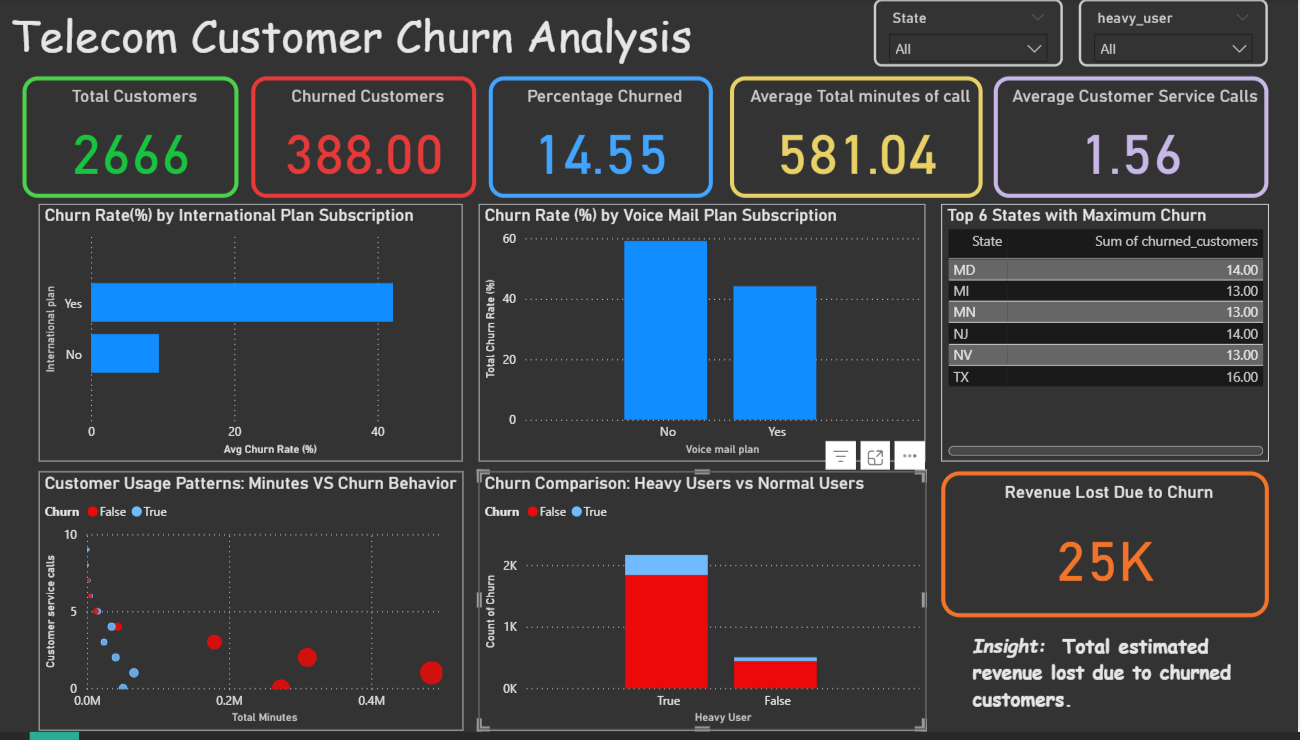

The dashboard page shown, as its layout file describes it:
{"tool":"powerbi","page":{"name":"Page 1","canvas":[1280,720],"ordinal":0},"visuals":[{"type":"textbox","box":[10.2,0,694.7,76.2],"z":0},{"type":"card","title":"Total Customers","fields":{"Values":["Sum(telecom_churn v_churn_kpis.total_customers)"]},"box":[26.7,76.2,212.1,119.4],"z":1000},{"type":"card","title":"Churned Customers","fields":{"Values":["Sum(telecom_churn v_churn_kpis.churned_customers)"]},"box":[251.5,76.2,221,119.4],"z":2000},{"type":"card","title":"Percentage Churned","fields":{"Values":["Sum(telecom_churn v_churn_kpis.churn_rate_percent)"]},"box":[485.2,76.2,219.7,119.4],"z":3000},{"type":"card","title":"Average Total minutes of call","fields":{"Values":["Avg(telecom_churn v_customer_metrics.Total minutes)"]},"box":[721.4,76.2,247.7,119.4],"z":4000},{"type":"card","title":"Average Customer Service Calls","fields":{"Values":["Avg(telecom_churn v_customer_metrics.Customer service calls)"]},"box":[980.5,76.2,269.3,119.4],"z":5000},{"type":"clusteredBarChart","title":"Churn Rate(%) by International Plan Subscription","fields":{"Category":["telecom_churn v_churn_by_plan.International plan"],"Y":["Avg(telecom_churn v_churn_by_plan.churn_rate_percent)"]},"box":[43.4,200.7,416.3,253.1],"z":6000},{"type":"clusteredColumnChart","title":"Churn Rate (%) by Voice Mail Plan Subscription","fields":{"Category":["telecom_churn v_churn_by_plan.Voice mail plan"],"Y":["Sum(telecom_churn v_churn_by_plan.churn_rate_percent)"]},"box":[474.7,200.7,438.7,253.1],"z":7000},{"type":"tableEx","title":"Top 6 States with Maximum Churn","fields":{"Values":["telecom_churn v_churn_by_geo.State","Sum(telecom_churn v_churn_by_geo.churned_customers)"]},"box":[928.4,200.7,321.9,253.1],"z":8000},{"type":"scatterChart","title":"Customer Usage Patterns: Minutes VS Churn Behavior","fields":{"Series":["telecom_churn telecom_users.Churn"],"Y":["telecom_churn telecom_users.Customer service calls"],"X":["Sum(telecom_churn telecom_users.Total Minutes)"],"Size":["CountNonNull(telecom_churn telecom_users.Total Charges)"]},"box":[43.2,463.6,416.6,254],"z":8001},{"type":"columnChart","title":"Churn Comparison: Heavy Users vs Normal Users","fields":{"Category":["telecom_churn telecom_users.heavy_user"],"Y":["CountNonNull(telecom_churn telecom_users.Churn)"],"Series":["telecom_churn telecom_users.Churn"]},"box":[475,464,439,254],"z":8002},{"type":"card","title":"Revenue Lost Due to Churn","fields":{"Values":["telecom_churn telecom_users.Revenue Lost To Churn"]},"box":[928.4,463.6,321.3,143.5],"z":8003},{"type":"textbox","box":[955.1,616,294.7,101.6],"z":8004},{"type":"slicer","fields":{"Values":["telecom_churn telecom_users.heavy_user"]},"box":[1064.3,0,185.4,66],"z":8005},{"type":"slicer","fields":{"Values":["telecom_churn v_customer_metrics.State"]},"box":[862.4,0,185.4,66],"z":8006}]}

Visuals, with their boxes in screenshot pixels (x1, y1, x2, y2), scaled from the page's 1280x720 canvas onto the 1300x740 screenshot:
textbox: box=[10, 0, 716, 78]
"Total Customers" card: box=[27, 78, 243, 201]
"Churned Customers" card: box=[255, 78, 480, 201]
"Percentage Churned" card: box=[493, 78, 716, 201]
"Average Total minutes of call" card: box=[733, 78, 984, 201]
"Average Customer Service Calls" card: box=[996, 78, 1269, 201]
"Churn Rate(%) by International Plan Subscription" clusteredBarChart: box=[44, 206, 467, 466]
"Churn Rate (%) by Voice Mail Plan Subscription" clusteredColumnChart: box=[482, 206, 928, 466]
"Top 6 States with Maximum Churn" tableEx: box=[943, 206, 1270, 466]
"Customer Usage Patterns: Minutes VS Churn Behavior" scatterChart: box=[44, 476, 467, 738]
"Churn Comparison: Heavy Users vs Normal Users" columnChart: box=[482, 477, 928, 738]
"Revenue Lost Due to Churn" card: box=[943, 476, 1269, 624]
textbox: box=[970, 633, 1269, 738]
slicer - telecom_churn telecom_users.heavy_user: box=[1081, 0, 1269, 68]
slicer - telecom_churn v_customer_metrics.State: box=[876, 0, 1064, 68]
